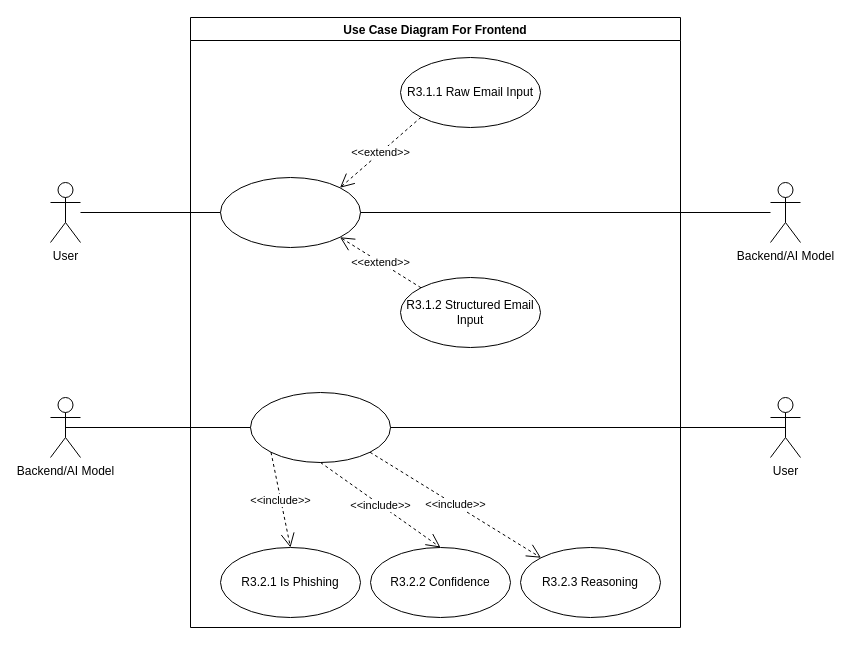
Some shapes in this 851 by 645 pixel diagram are drawn without their labels. Here are the shapes that lost their labels. From the top down, the box of each, then its label:
(220, 176, 360, 248): R3.1 Email Input
(250, 392, 390, 462): R3.2 Email Result Output
